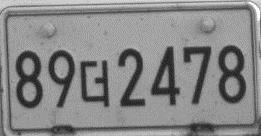2: (116, 48, 148, 108)
4: (150, 45, 181, 106)
7: (181, 44, 213, 105)
8: (216, 43, 247, 104), (13, 48, 44, 108)
9: (47, 48, 76, 108)
더: (79, 58, 111, 108)
